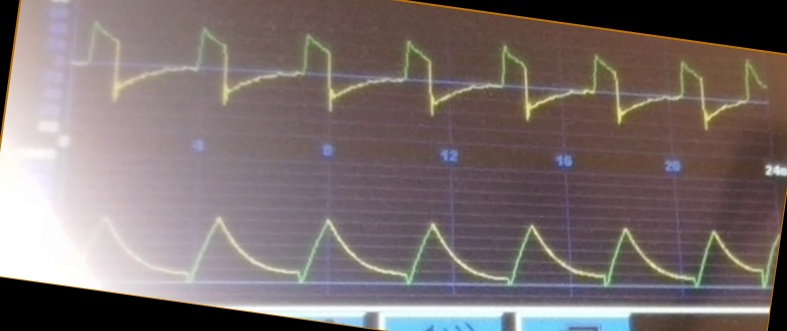Flow: (76, 26, 733, 139)
Leakage Volume: (90, 212, 772, 294)
